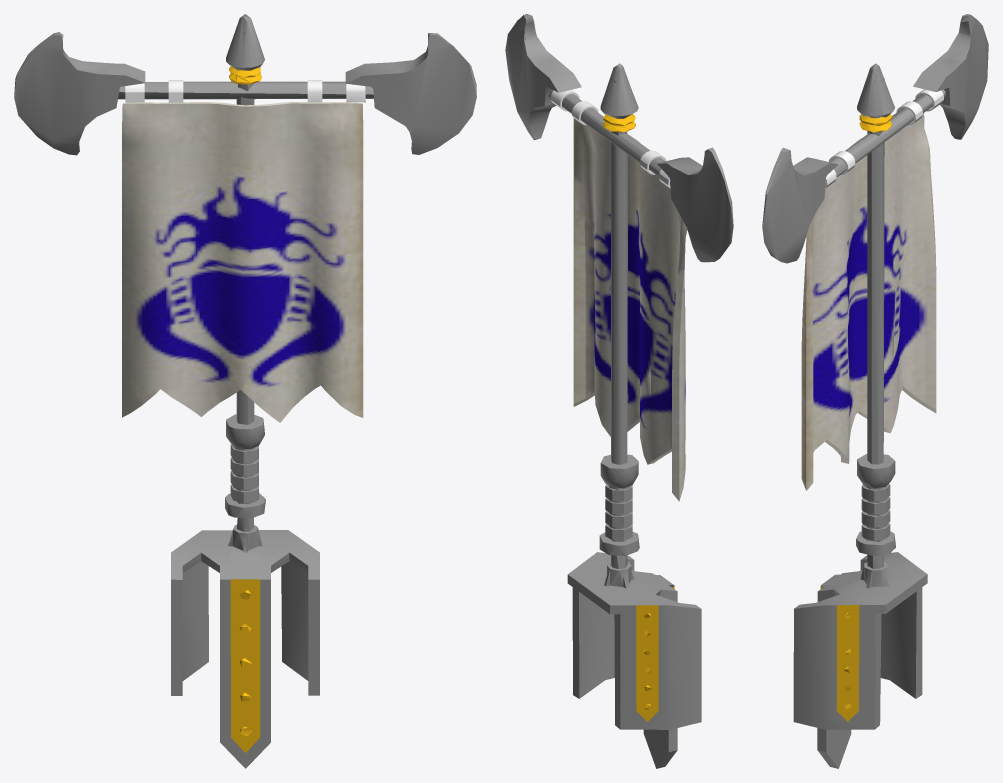
File: vs-fortress-banner.glb
3 renders of one model, left to right at view 1: azimuth 30°, elevation 25°; view 2: azimuth 150°, elevation 25°; view 3: azimuth 270°, elevation 25°, orthographic. The views are drawn at different scales.
Parts seen in each view (by area): view 1: VsFortressBanner_drapeau, VsFortressBanner_armature, VsFortressBanner_or, VsFortressBanner_anneaux; view 2: VsFortressBanner_armature, VsFortressBanner_drapeau, VsFortressBanner_or, VsFortressBanner_anneaux; view 3: VsFortressBanner_armature, VsFortressBanner_drapeau, VsFortressBanner_or, VsFortressBanner_anneaux.
Boxes of the visible parts, <box> form: VsFortressBanner_drapeau: <box>122,102,363,422</box>; VsFortressBanner_armature: <box>14,14,476,768</box>; VsFortressBanner_or: <box>229,66,261,753</box>; VsFortressBanner_anneaux: <box>125,80,365,102</box>; VsFortressBanner_armature: <box>505,14,733,768</box>; VsFortressBanner_drapeau: <box>573,118,687,501</box>; VsFortressBanner_or: <box>603,114,674,721</box>; VsFortressBanner_anneaux: <box>550,90,670,188</box>; VsFortressBanner_armature: <box>762,14,988,768</box>; VsFortressBanner_drapeau: <box>801,113,936,490</box>; VsFortressBanner_or: <box>820,114,892,721</box>; VsFortressBanner_anneaux: <box>825,89,943,188</box>.
Size of the model in its own units: 2.39 by 4.8 by 1.38.
4 materials, 1 textured.
